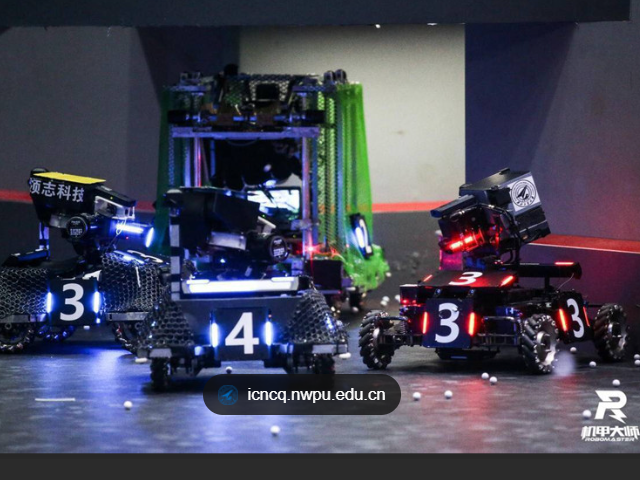rm: (364, 166, 638, 374), (161, 71, 364, 301), (144, 189, 343, 393), (2, 169, 172, 355)
